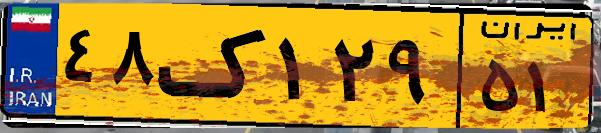1: (270, 28, 330, 110), (525, 38, 570, 115)
2: (330, 28, 385, 110)
4: (57, 26, 110, 100)
5: (475, 38, 525, 113)
8: (110, 28, 158, 98)
9: (385, 28, 445, 110)
ک: (158, 12, 270, 120)
